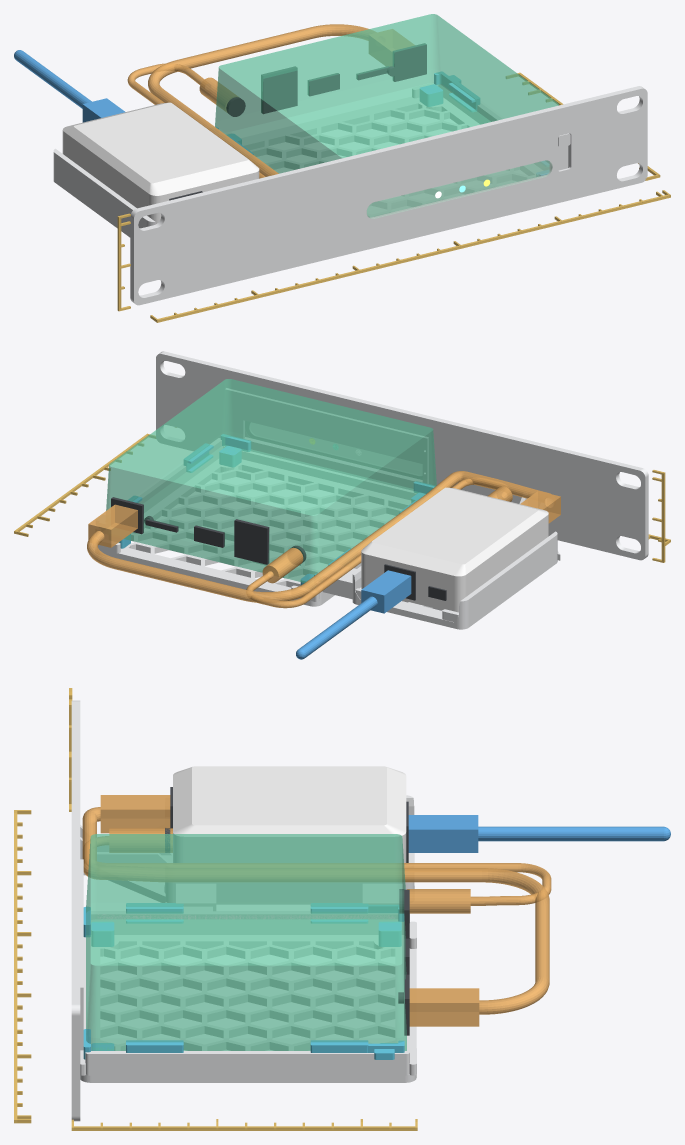
Rendered from home-assistant-green-rack-compact.glb.
The picture shows the model from 3 angles, top to bottom: view 1: azimuth 30°, elevation 25°; view 2: azimuth 150°, elevation 25°; view 3: azimuth 270°, elevation 25°; orthographic projection. The views are drawn at different scales.
Parts seen in each view (by area): view 1: White rack mount, Home Assistant Green, TP-Link TL-PD30G-M2, Green tray — standard, Ethernet cable — bend-radius warning, 10 mm dimension rulers, Home Assistant Green connector faces, LED window insert, TP-Link cradle side walls, Incoming PoE cable, DC cable — bend-radius warning, Green retention — segmented rails + rear latch (+3 smaller); view 2: Home Assistant Green, White rack mount, Green tray — standard, TP-Link TL-PD30G-M2, Ethernet cable — bend-radius warning, LED shutter retainer, Home Assistant Green connector faces, TP-Link cradle side walls, DC cable — bend-radius warning, LED window insert, Incoming PoE cable, Green retention — segmented rails + rear latch (+3 smaller); view 3: Home Assistant Green, Green tray — standard, TP-Link TL-PD30G-M2, Ethernet cable — bend-radius warning, White rack mount, DC cable — bend-radius warning, Green retention — segmented rails + rear latch, Incoming PoE cable, 10 mm dimension rulers, TP-Link cradle side walls, TP-Link cradle floor, Home Assistant Green connector faces (+1 smaller).
Part boxes in pixels (<box>): White rack mount: <box>130,86,647,305</box>; Home Assistant Green: <box>215,14,558,217</box>; TP-Link TL-PD30G-M2: <box>62,102,259,223</box>; Green tray — standard: <box>225,83,501,217</box>; Ethernet cable — bend-radius warning: <box>148,24,414,176</box>; 10 mm dimension rulers: <box>117,72,670,322</box>; Home Assistant Green connector faces: <box>226,43,426,116</box>; LED window insert: <box>366,160,552,218</box>; TP-Link cradle side walls: <box>53,148,155,230</box>; Incoming PoE cable: <box>14,50,125,122</box>; DC cable — bend-radius warning: <box>127,63,265,178</box>; Green retention — segmented rails + rear latch: <box>216,71,548,175</box>; Home Assistant Green: <box>106,379,436,582</box>; White rack mount: <box>156,351,648,599</box>; Green tray — standard: <box>98,438,416,606</box>; TP-Link TL-PD30G-M2: <box>361,487,548,612</box>; Ethernet cable — bend-radius warning: <box>87,471,560,602</box>; LED shutter retainer: <box>225,388,428,483</box>; Home Assistant Green connector faces: <box>111,497,306,564</box>; TP-Link cradle side walls: <box>352,531,557,623</box>; DC cable — bend-radius warning: <box>246,478,512,608</box>; LED window insert: <box>245,422,421,478</box>; Incoming PoE cable: <box>296,570,411,659</box>; Green retention — segmented rails + rear latch: <box>119,434,435,585</box>; Home Assistant Green: <box>86,834,406,1050</box>; Green tray — standard: <box>80,911,416,1082</box>; TP-Link TL-PD30G-M2: <box>173,766,406,862</box>; Ethernet cable — bend-radius warning: <box>82,795,549,1026</box>; White rack mount: <box>71,700,402,1121</box>; DC cable — bend-radius warning: <box>83,828,551,913</box>; Green retention — segmented rails + rear latch: <box>83,903,404,1059</box>; Incoming PoE cable: <box>408,815,670,852</box>; 10 mm dimension rulers: <box>14,688,417,1130</box>; TP-Link cradle side walls: <box>164,795,414,896</box>; TP-Link cradle floor: <box>166,853,414,904</box>; Home Assistant Green connector faces: <box>398,889,409,1035</box>.
Size of what is drawn, in the model's own units: 268 by 44.45 by 227.
